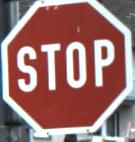Stop sign: (0, 0, 134, 141)
